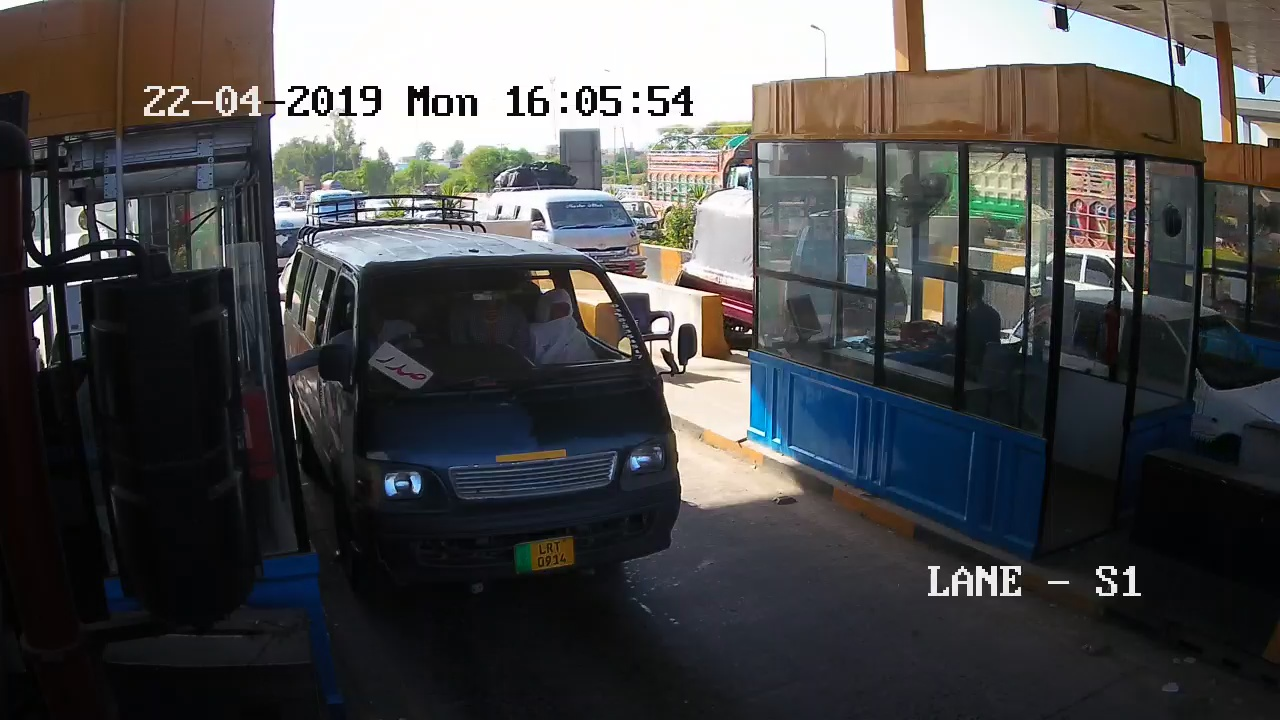Number Plate (Car): (511, 538, 580, 569)
